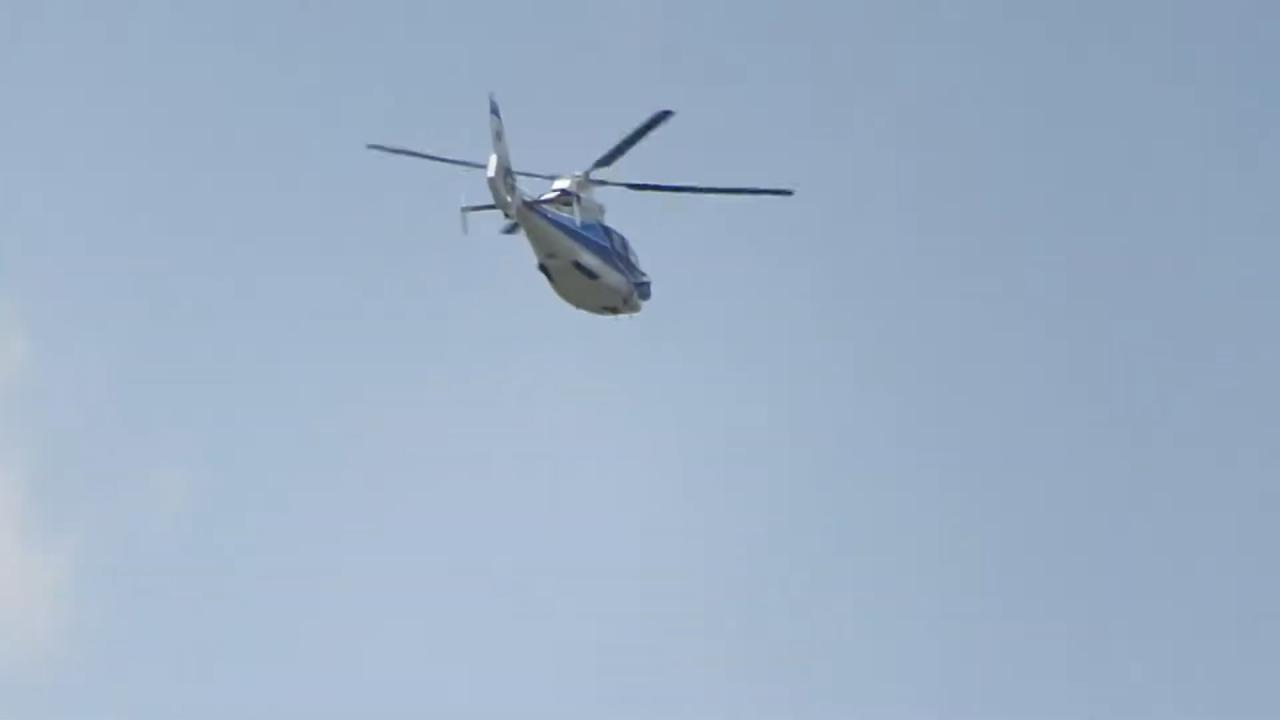Helicopter: (342, 68, 840, 357)
